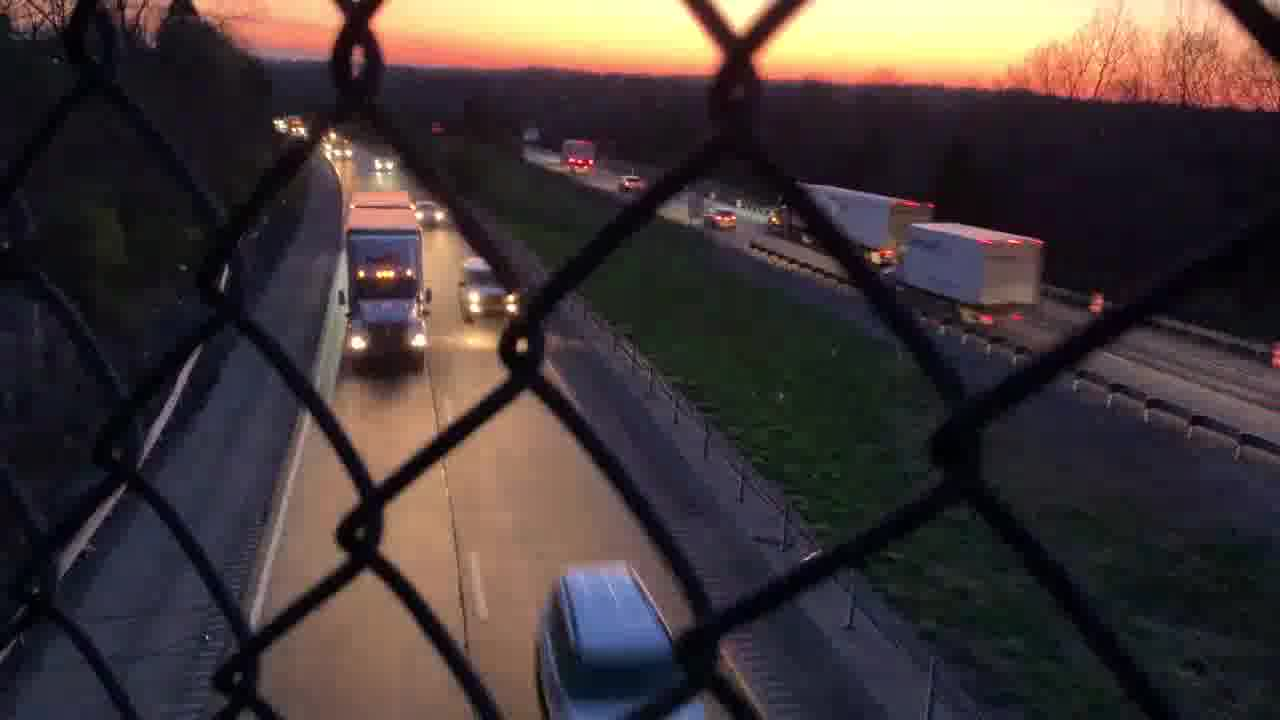heavyTruck: (888, 206, 1044, 341), (343, 191, 426, 384), (773, 178, 932, 264)
largeCar: (535, 554, 711, 717), (457, 259, 523, 324), (704, 204, 739, 233)
